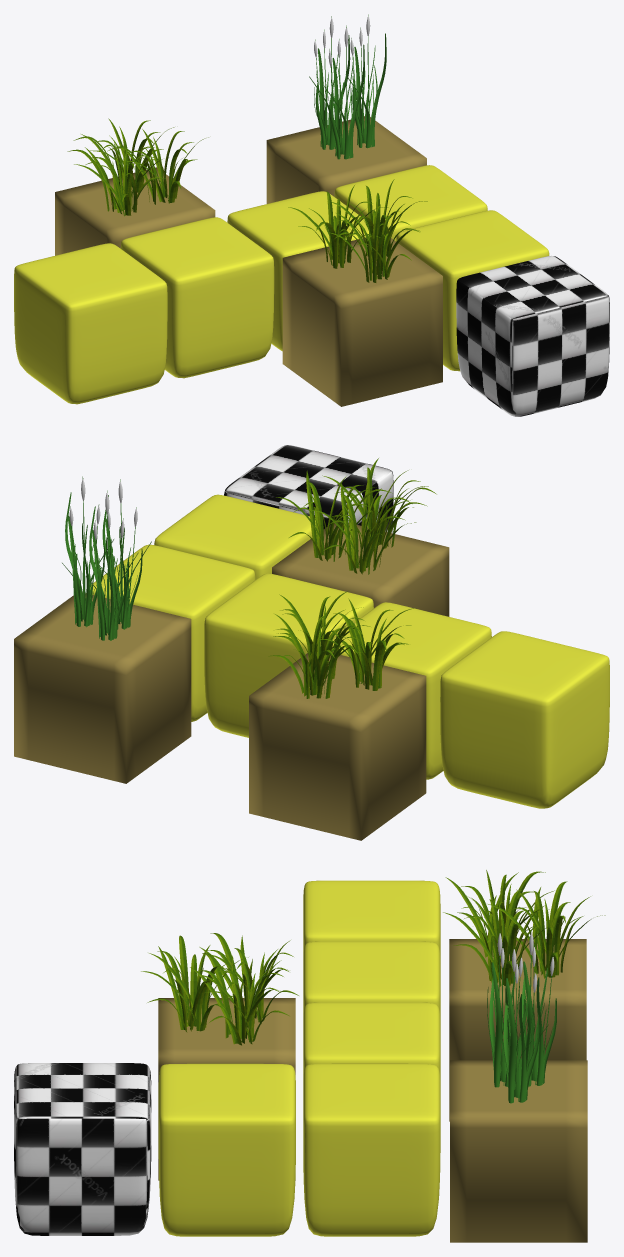
Rendered from Level2_base.glb.
3 renders of one model, top to bottom at view 1: azimuth 30°, elevation 25°; view 2: azimuth 150°, elevation 25°; view 3: azimuth 270°, elevation 25°, orthographic. The views are drawn at different scales.
Parts seen in each view (by area): view 1: Cube.002, Cube.004, Cube.005, Cube.011, Cube.001, Cube.012, Cube.003, Cube.010, plant_3, High Grass.003, High Grass.001; view 2: Cube.002, Cube.001, Cube.012, Cube.003, Cube.004, Cube.010, Cube.011, Cube.005, High Grass.001, plant_3, High Grass.003; view 3: Cube.001, Cube.010, Cube.011, Cube.005, Cube.002, Cube.012, Cube.003, High Grass.001, Cube.004, High Grass.003, plant_3.
Part boxes in pixels (x1,y1,x2,y2): Cube.002: (14, 217, 274, 404); Cube.004: (282, 234, 442, 406); Cube.005: (456, 256, 609, 416); Cube.011: (396, 210, 549, 371); Cube.001: (266, 116, 426, 203); Cube.012: (55, 167, 215, 255); Cube.003: (227, 191, 368, 351); Cube.010: (334, 165, 487, 241); plant_3: (309, 14, 386, 159); High Grass.003: (67, 118, 208, 216); High Grass.001: (288, 179, 427, 282); Cube.002: (332, 602, 609, 808); Cube.001: (14, 592, 191, 783); Cube.012: (249, 653, 426, 840); Cube.003: (204, 573, 373, 737); Cube.004: (272, 520, 449, 616); Cube.010: (90, 544, 255, 721); Cube.011: (154, 494, 316, 579); Cube.005: (224, 445, 393, 533); High Grass.001: (276, 458, 436, 574); plant_3: (62, 476, 151, 640); High Grass.003: (268, 590, 415, 698); Cube.001: (450, 1060, 587, 1242); Cube.010: (303, 1063, 440, 1236); Cube.011: (158, 1063, 295, 1236); Cube.005: (14, 1063, 151, 1235); Cube.002: (303, 880, 440, 1024); Cube.012: (449, 939, 586, 1121); Cube.003: (303, 1002, 440, 1086); High Grass.001: (141, 933, 298, 1045); Cube.004: (158, 998, 295, 1180); High Grass.003: (443, 870, 605, 986); plant_3: (487, 930, 556, 1103).
Size of the model in its own units: 11.45 by 6.17 by 11.96.
Materials: 6 (2 with a texture image).
